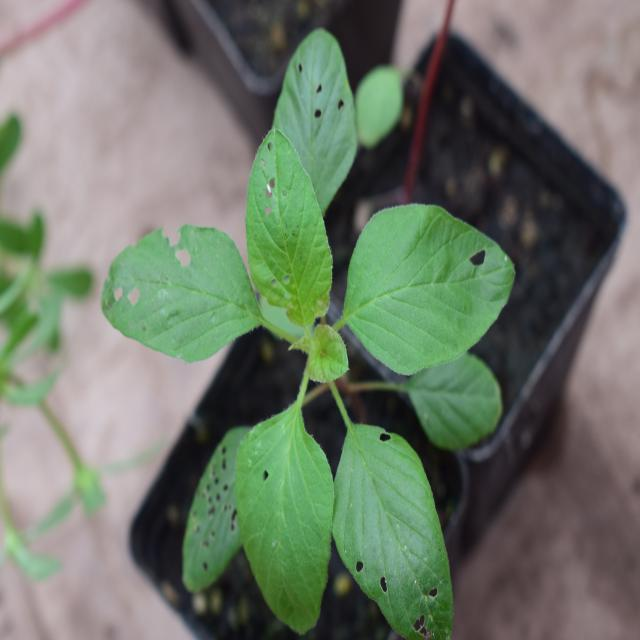pigweed: (125, 81, 503, 616)
